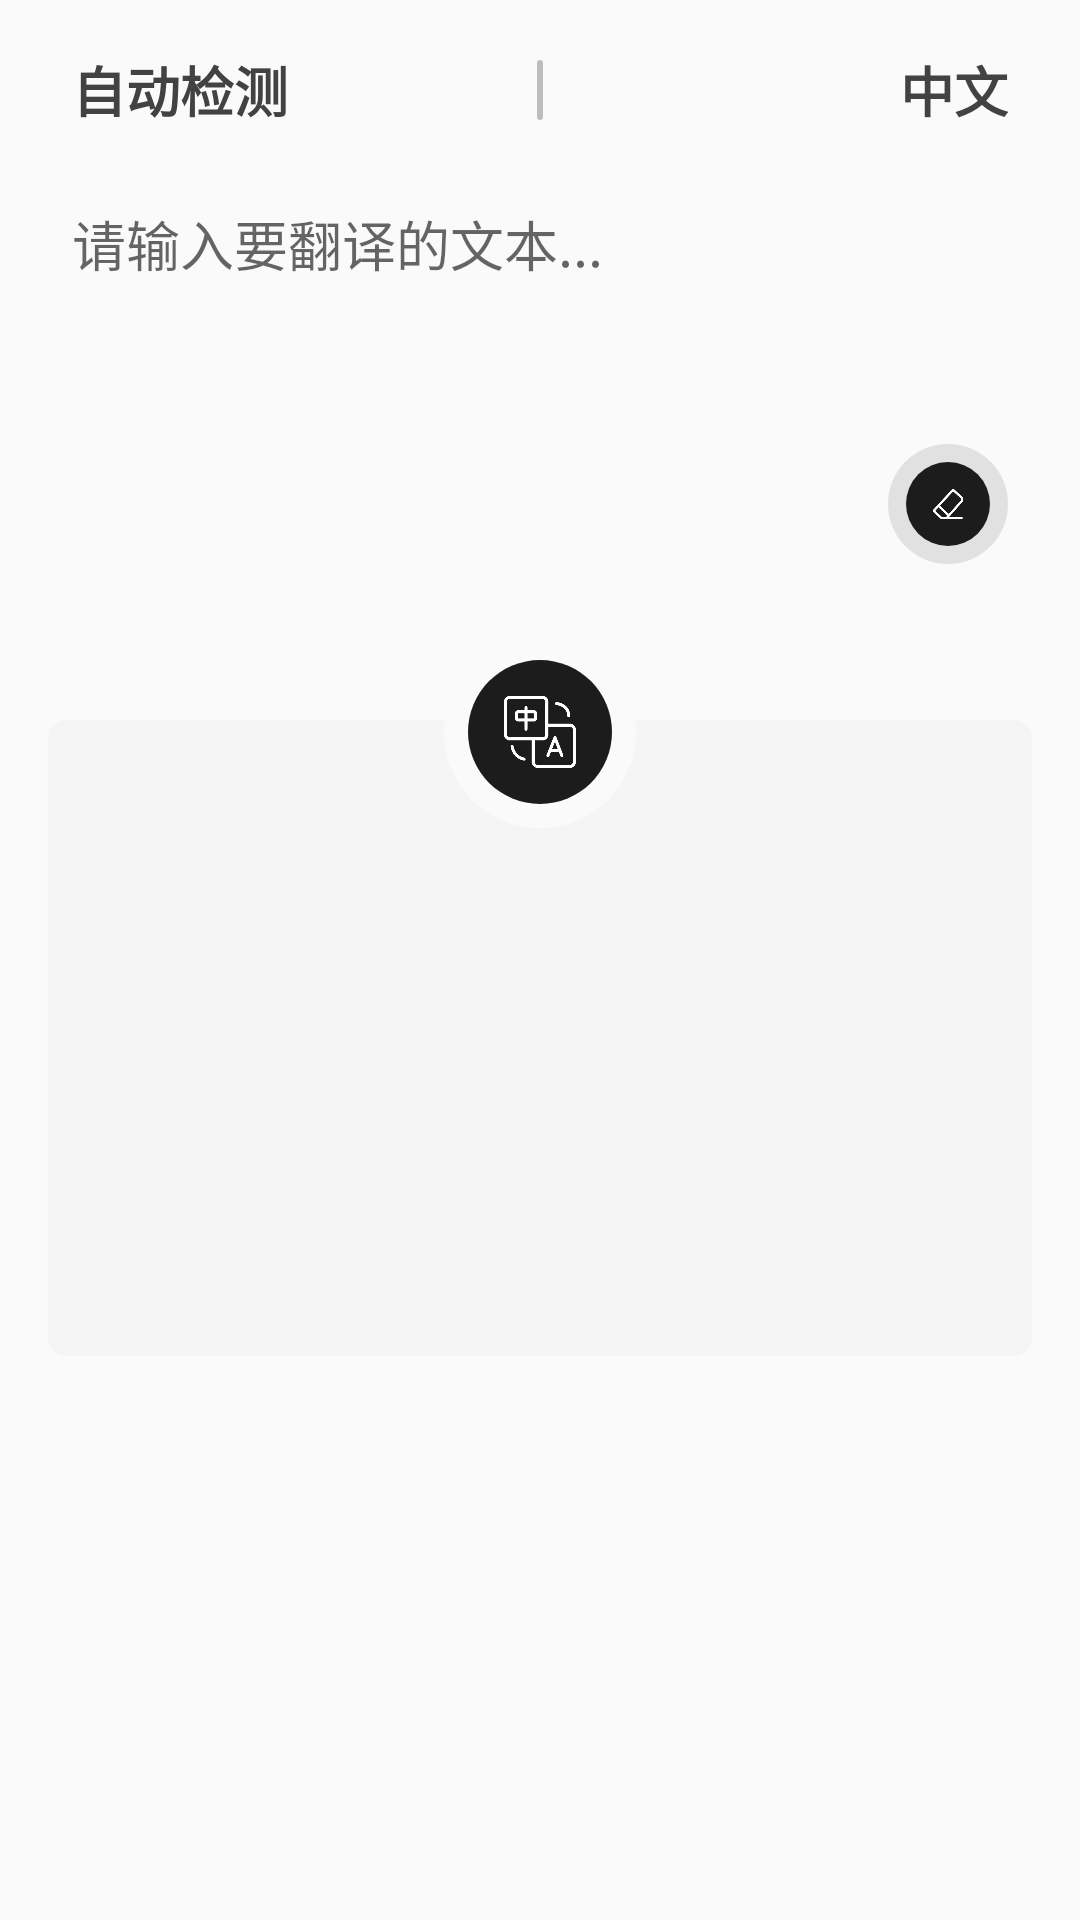

Point at icon controls on the screen. Image size 1080x1920, points as (x,y).
clean: (948,504)
translate: (540,732)
